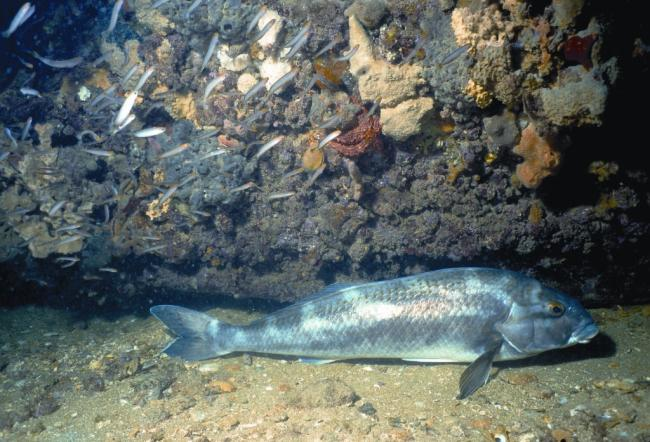fish: (149, 267, 600, 400)
